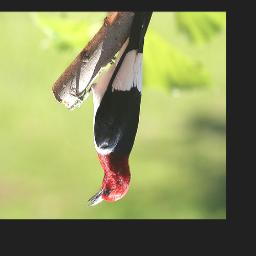Woodpecker: (82, 12, 155, 210)
